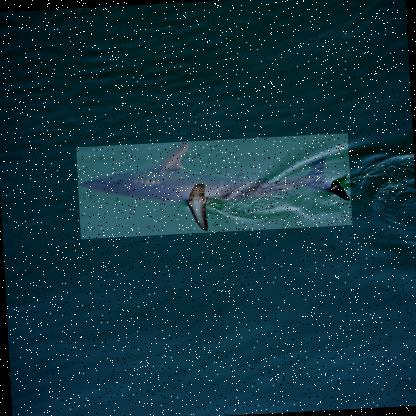mako-shark: (74, 130, 351, 237)
